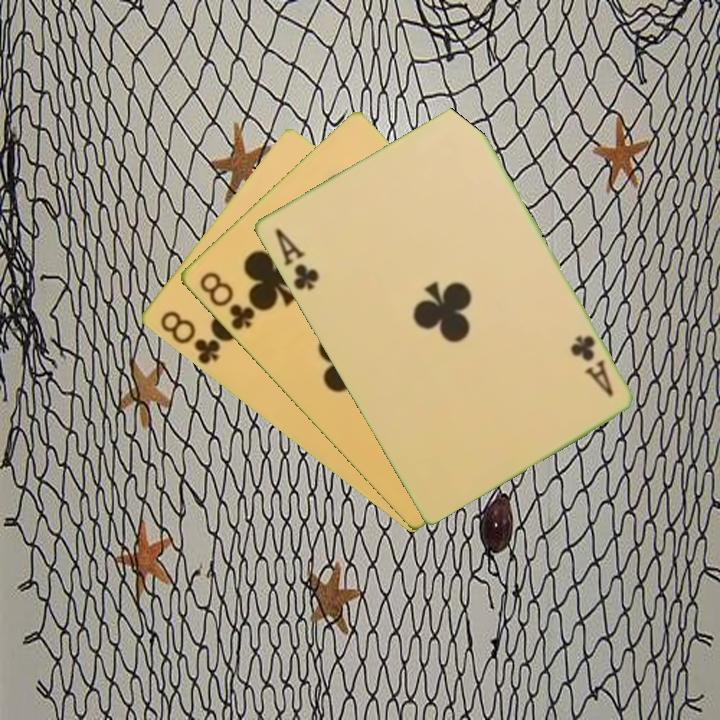8c: (155, 307, 226, 367), (195, 268, 257, 333)
Ac: (271, 224, 322, 293), (566, 331, 616, 399)
